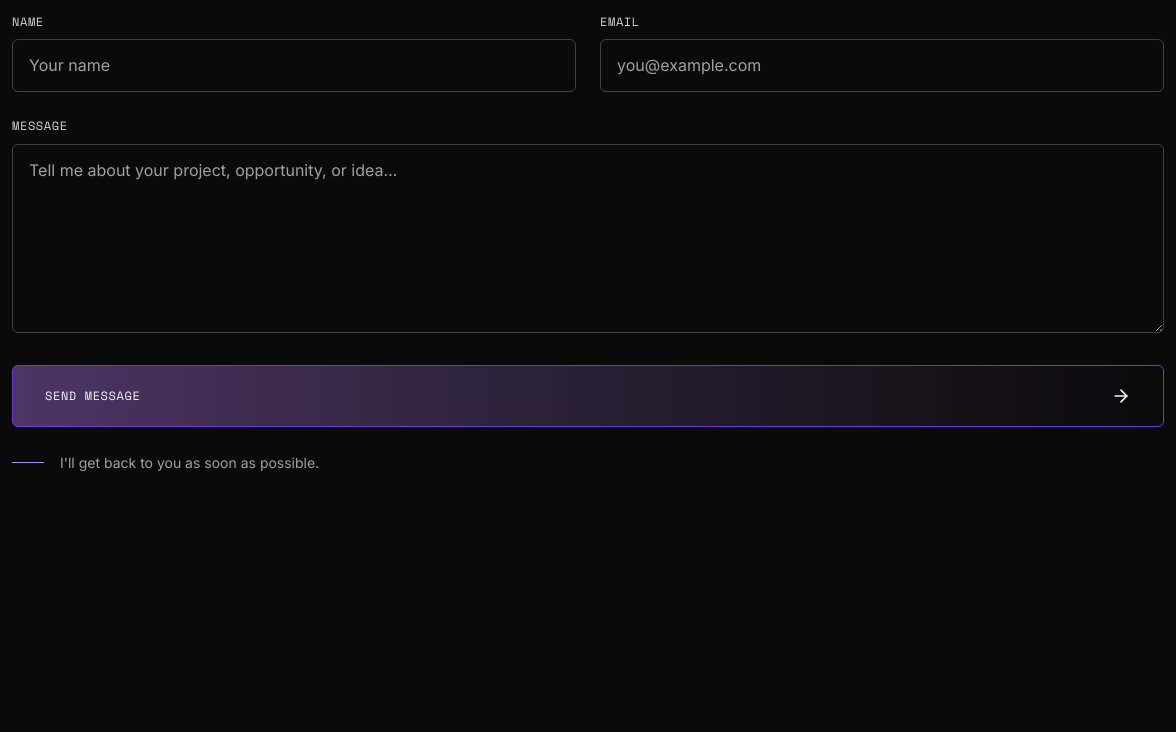
Test: ContactForm › clears an error once the field is fixed
Click the button "Send message" at (93, 396), box [12,365,1164,427]
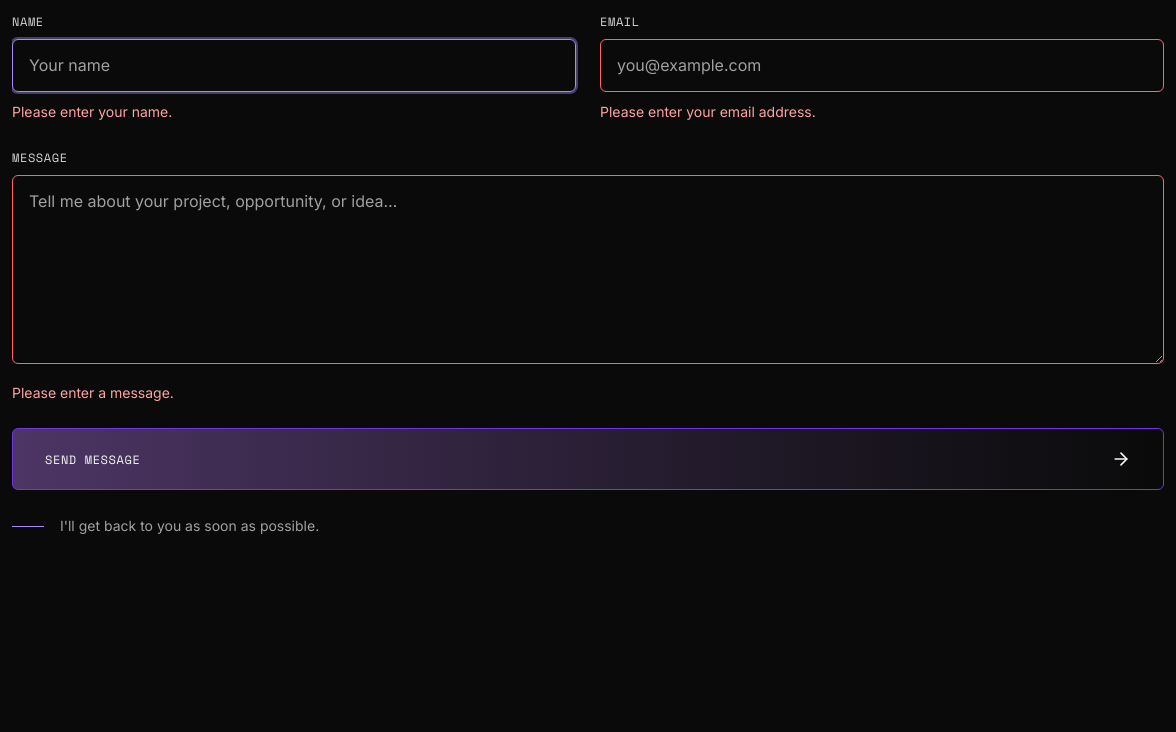
Type "Ada" into the field labelled "Name" at (294, 66), box [12,39,576,92]
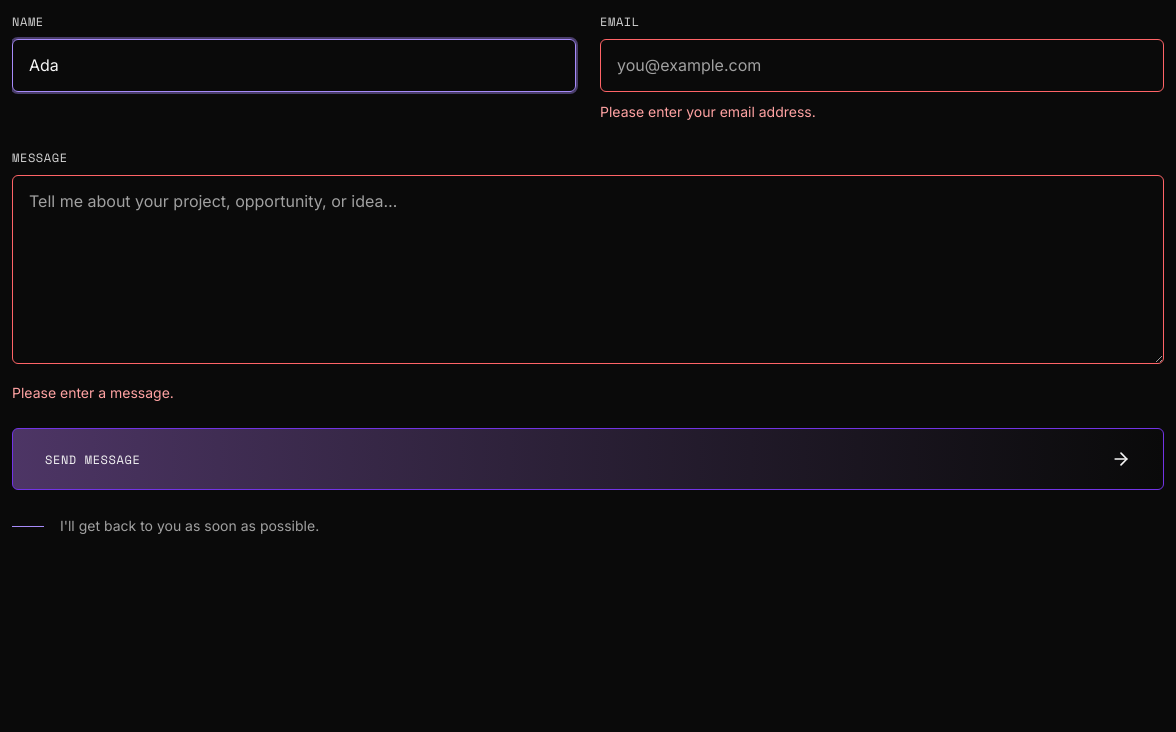
expect the text "Please enter your name." is gone: met
